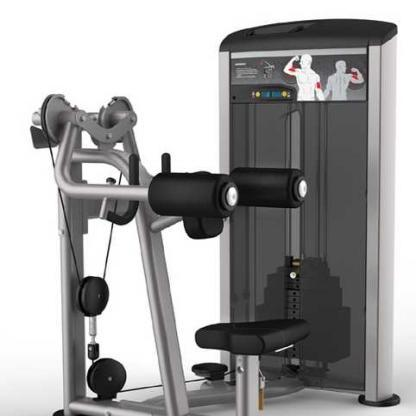lateral raises machine: (31, 95, 400, 407)
